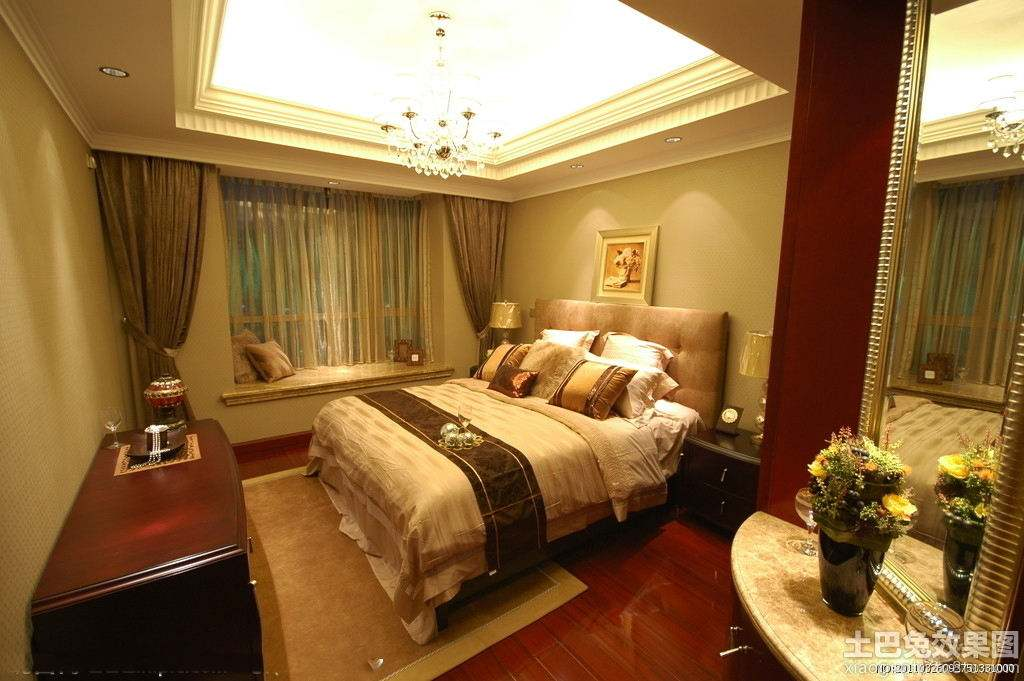床: (296, 370, 685, 613)
枕头: (470, 328, 686, 417), (228, 331, 298, 387)
灯: (382, 14, 499, 184), (482, 299, 524, 361), (94, 64, 128, 82), (660, 134, 683, 149)
